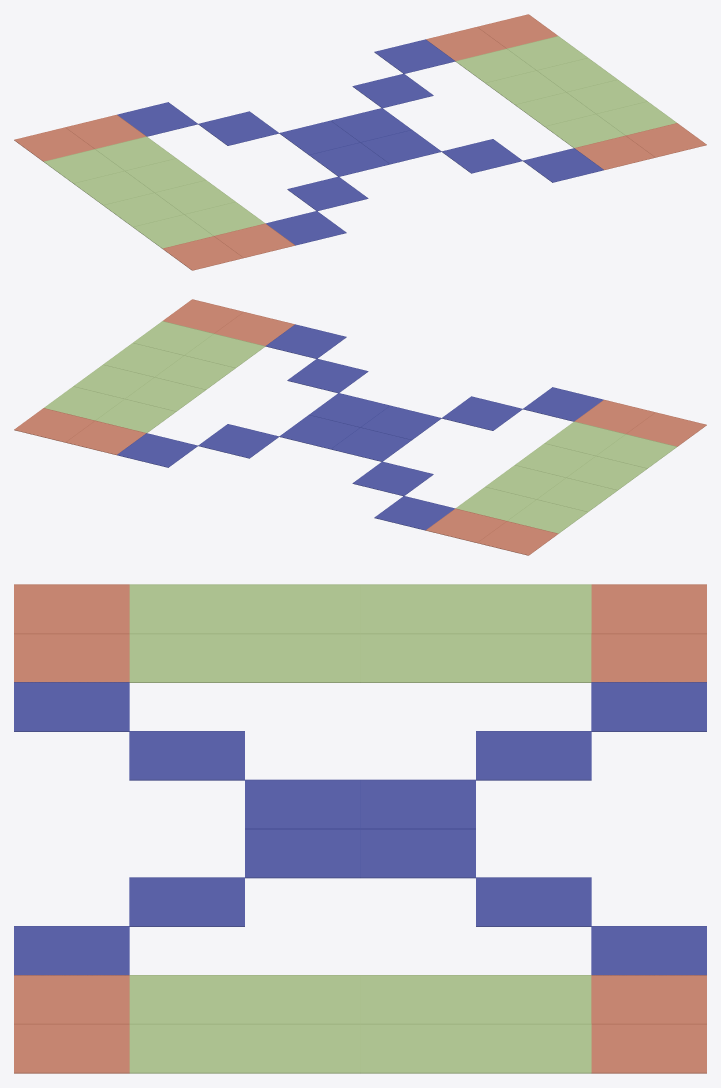
The picture shows the model from 3 angles, top to bottom: view 1: azimuth 30°, elevation 25°; view 2: azimuth 150°, elevation 25°; view 3: azimuth 270°, elevation 25°; orthographic projection. The views are drawn at different scales.
Visible parts, largest first — view 1: polySurface477, polySurface461, polySurface473, polySurface480, polySurface485, polySurface492, polySurface495, polySurface507, polySurface464, polySurface502, polySurface474, polySurface486 (+24 smaller); view 2: polySurface492, polySurface473, polySurface477, polySurface480, polySurface490, polySurface495, polySurface500, polySurface507, polySurface468, polySurface489, polySurface458, polySurface508 (+24 smaller); view 3: polySurface464, polySurface466, polySurface486, polySurface501, polySurface465, polySurface467, polySurface489, polySurface509, polySurface459, polySurface460, polySurface461, polySurface462 (+24 smaller).
Part boxes in pixels (x1=…): polySurface477: x1=287, y1=176, x2=368, y2=211; polySurface461: x1=162, y1=236, x2=243, y2=270; polySurface473: x1=523, y1=148, x2=603, y2=182; polySurface480: x1=441, y1=139, x2=522, y2=173; polySurface485: x1=309, y1=142, x2=390, y2=176; polySurface492: x1=198, y1=111, x2=279, y2=145; polySurface495: x1=352, y1=73, x2=433, y2=107; polySurface507: x1=374, y1=39, x2=455, y2=73; polySurface464: x1=626, y1=123, x2=706, y2=157; polySurface502: x1=117, y1=102, x2=197, y2=136; polySurface474: x1=574, y1=135, x2=655, y2=170; polySurface486: x1=361, y1=129, x2=441, y2=164; polySurface492: x1=352, y1=461, x2=433, y2=496; polySurface473: x1=265, y1=324, x2=346, y2=358; polySurface477: x1=441, y1=396, x2=522, y2=430; polySurface480: x1=287, y1=358, x2=368, y2=392; polySurface490: x1=330, y1=427, x2=411, y2=461; polySurface495: x1=198, y1=424, x2=279, y2=458; polySurface500: x1=477, y1=521, x2=558, y2=555; polySurface507: x1=117, y1=433, x2=197, y2=467; polySurface468: x1=523, y1=387, x2=603, y2=421; polySurface489: x1=279, y1=414, x2=359, y2=449; polySurface458: x1=425, y1=508, x2=506, y2=542; polySurface508: x1=65, y1=420, x2=146, y2=455; polySurface464: x1=14, y1=1023, x2=129, y2=1073; polySurface466: x1=245, y1=1023, x2=360, y2=1073; polySurface486: x1=245, y1=828, x2=360, y2=878; polySurface501: x1=476, y1=1023, x2=591, y2=1073; polySurface465: x1=129, y1=1023, x2=244, y2=1073; polySurface467: x1=360, y1=1023, x2=475, y2=1073; polySurface489: x1=360, y1=828, x2=475, y2=878; polySurface509: x1=591, y1=1023, x2=706, y2=1073; polySurface459: x1=360, y1=584, x2=475, y2=633; polySurface460: x1=245, y1=584, x2=360, y2=633; polySurface461: x1=14, y1=584, x2=129, y2=633; polySurface462: x1=129, y1=584, x2=244, y2=633.
Size of the model in its own units: 10 by 0.01 by 6.
